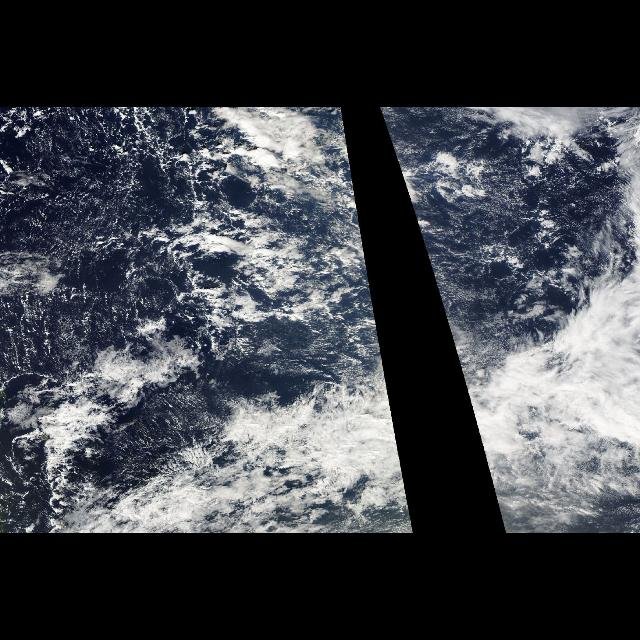Gravel: (1, 108, 383, 362), (380, 110, 582, 362)
